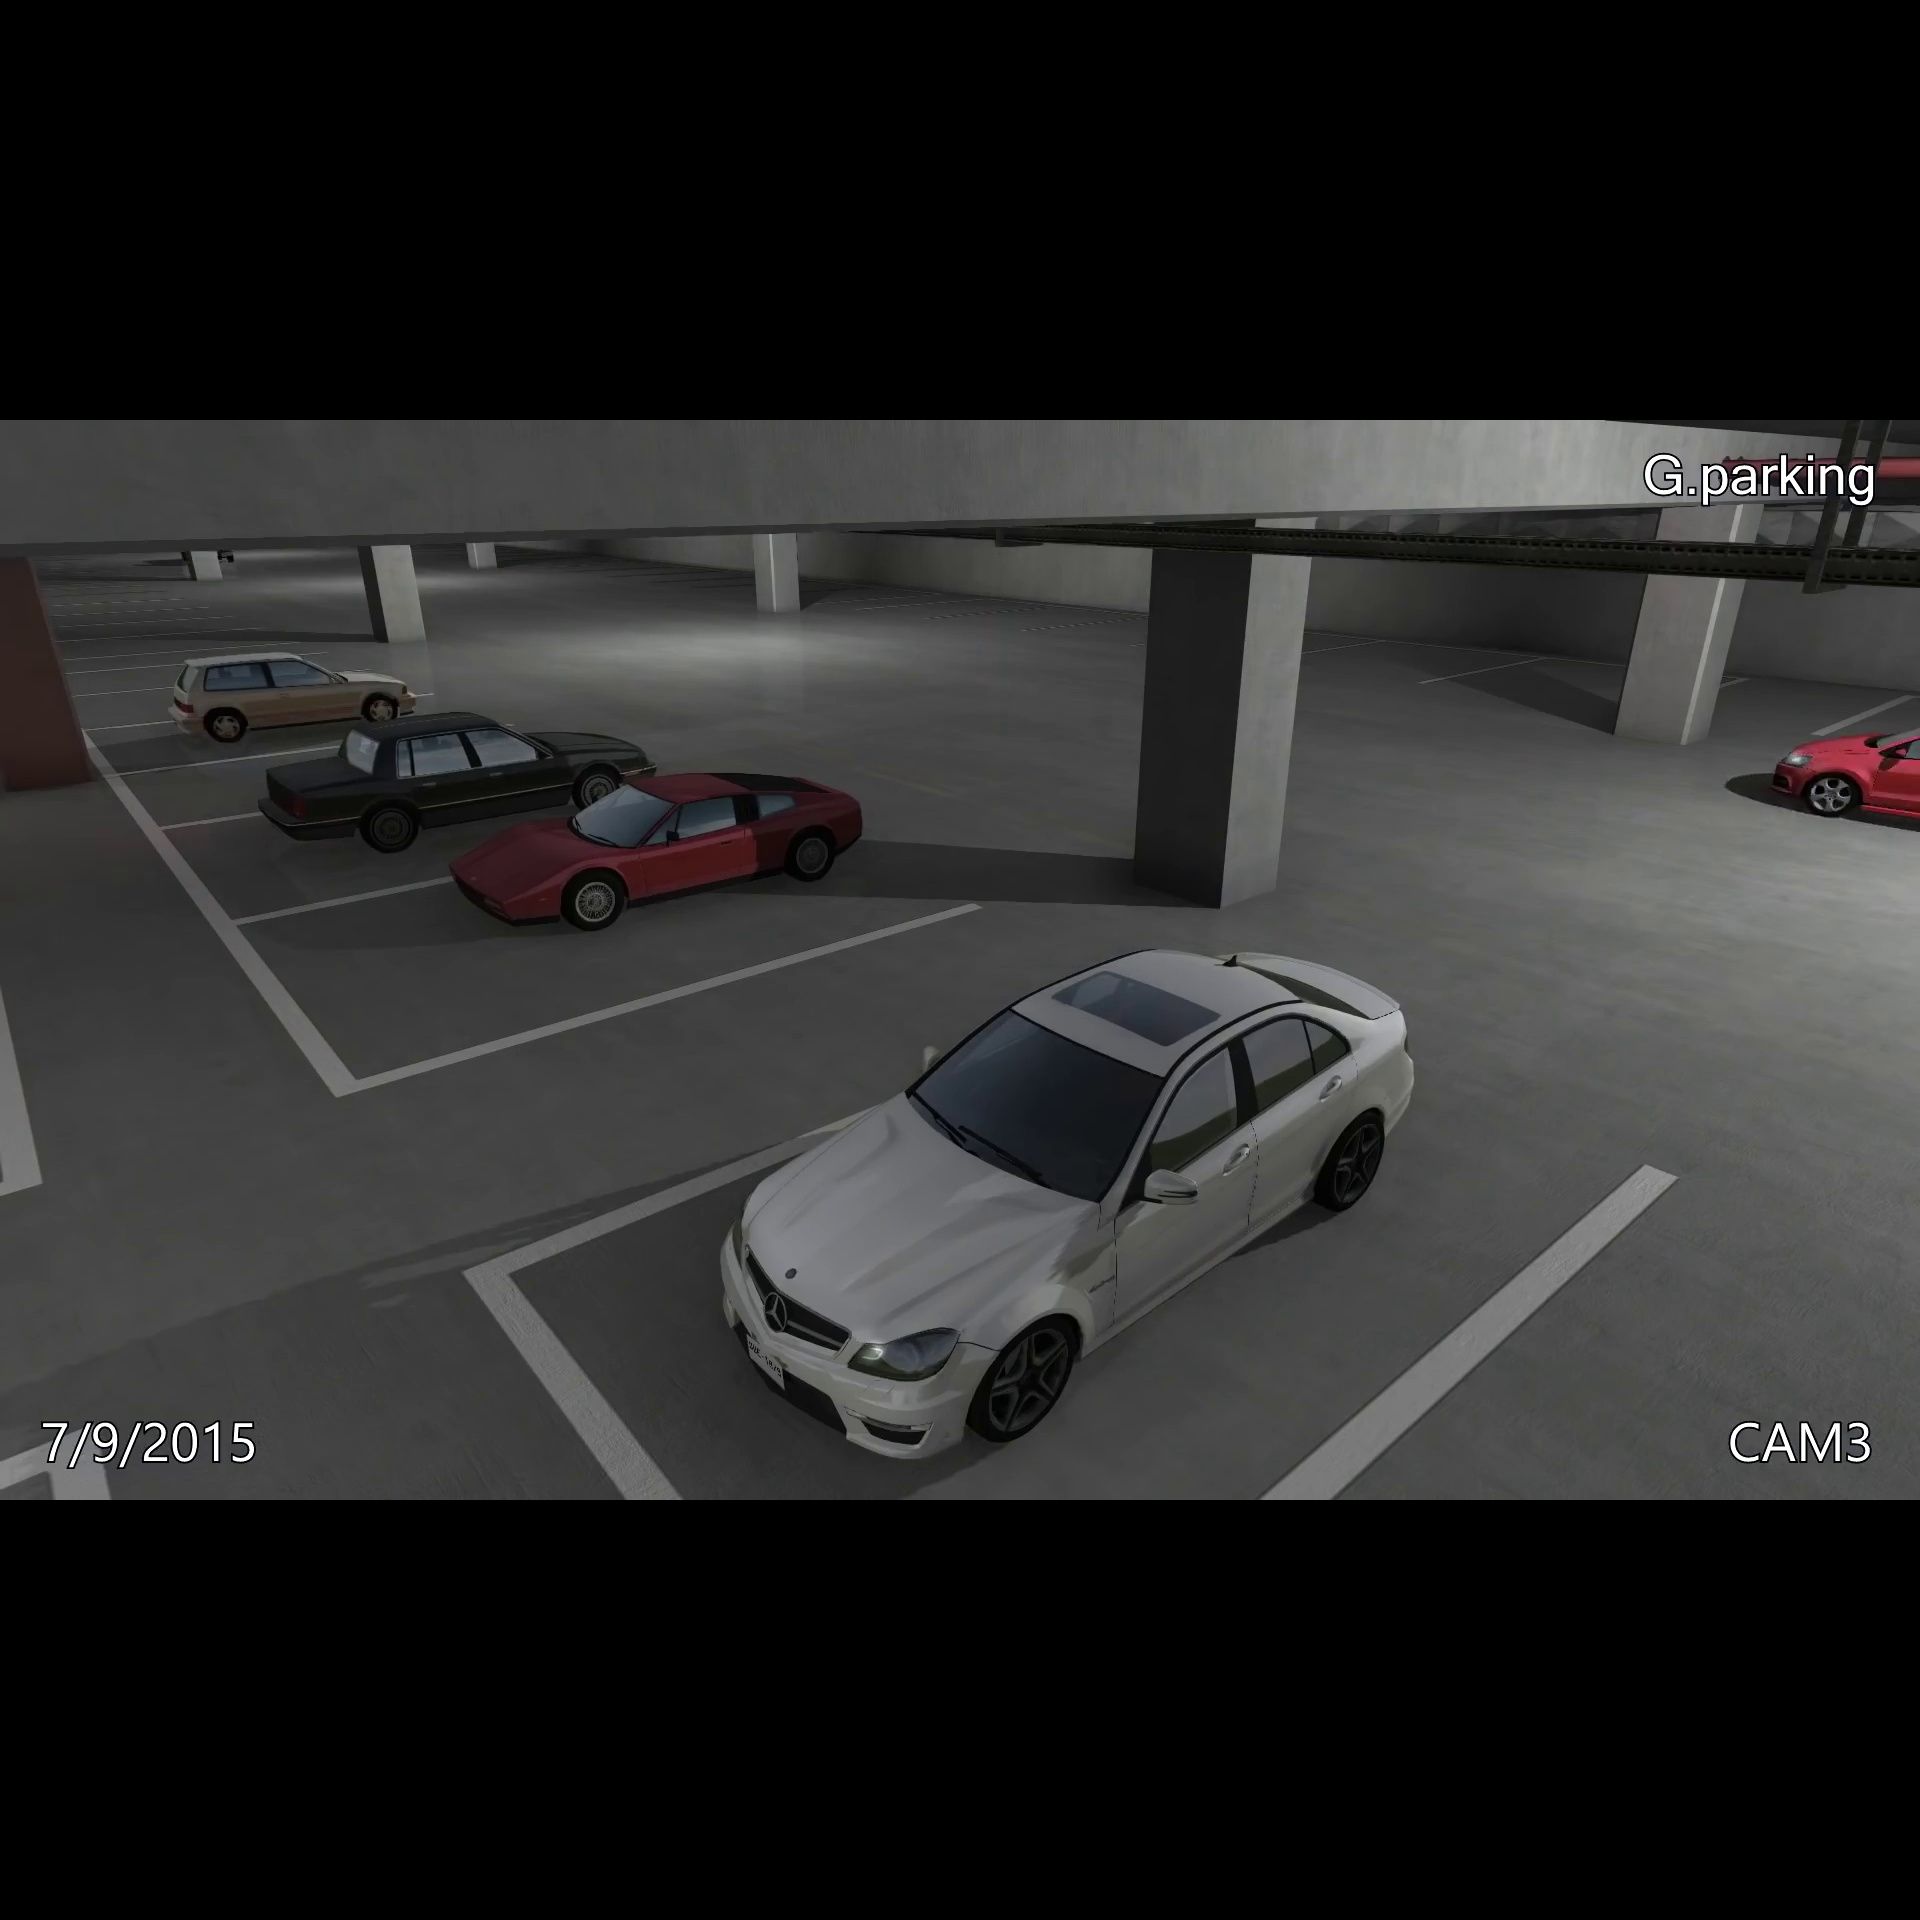vehicle: (710, 930, 1429, 1468), (440, 760, 876, 935), (257, 703, 658, 860), (164, 647, 425, 745), (1764, 721, 1920, 842)
